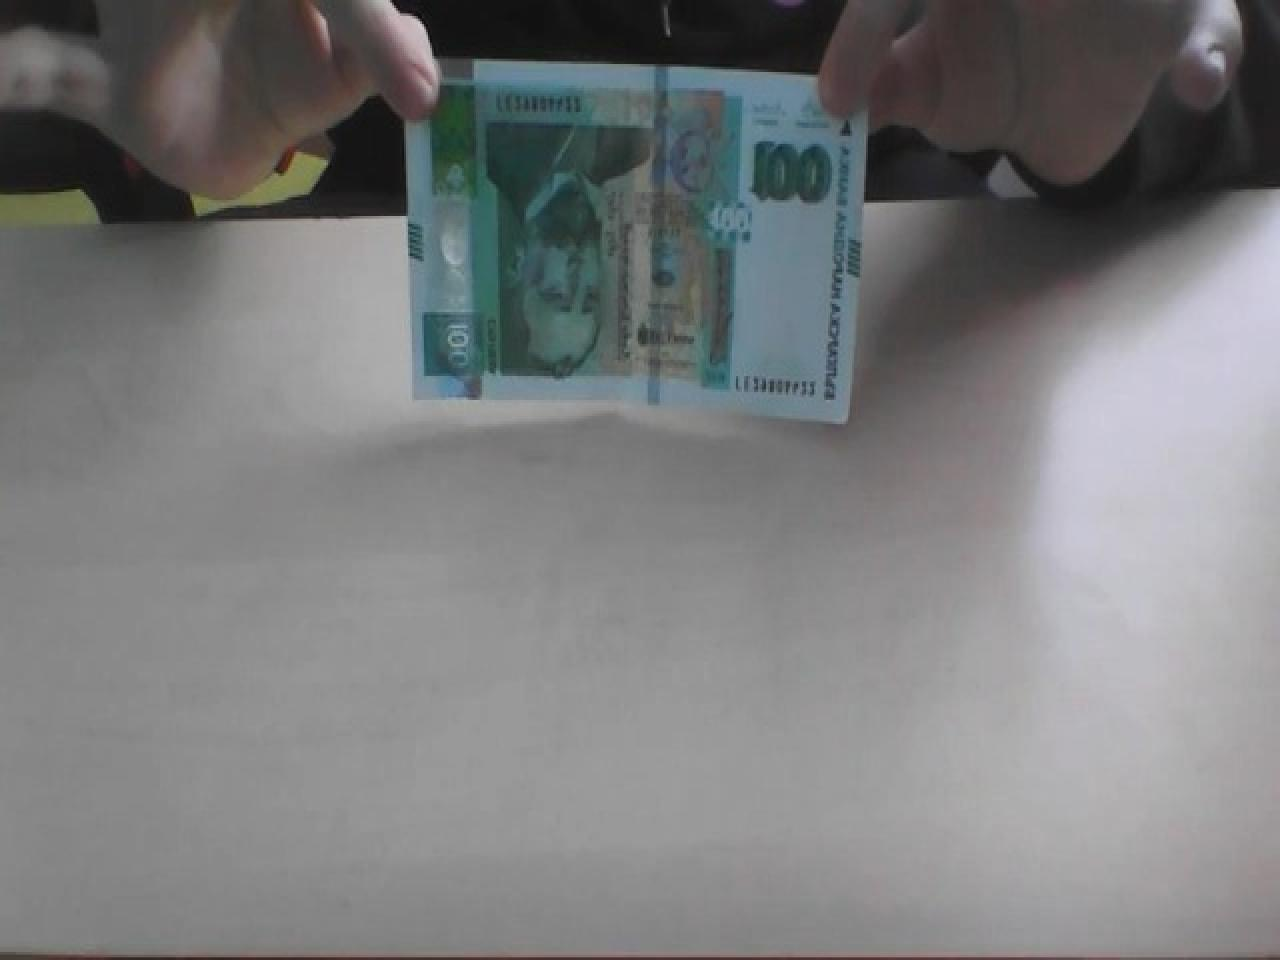100leva: (404, 58, 870, 424)
